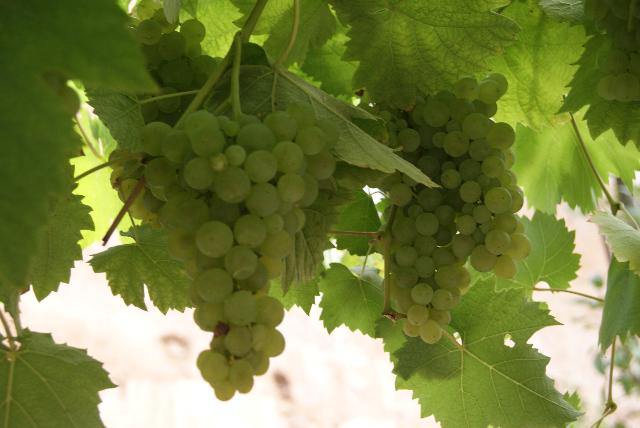grapes: (140, 100, 340, 401), (434, 74, 531, 280), (379, 172, 466, 344), (381, 95, 448, 181)
